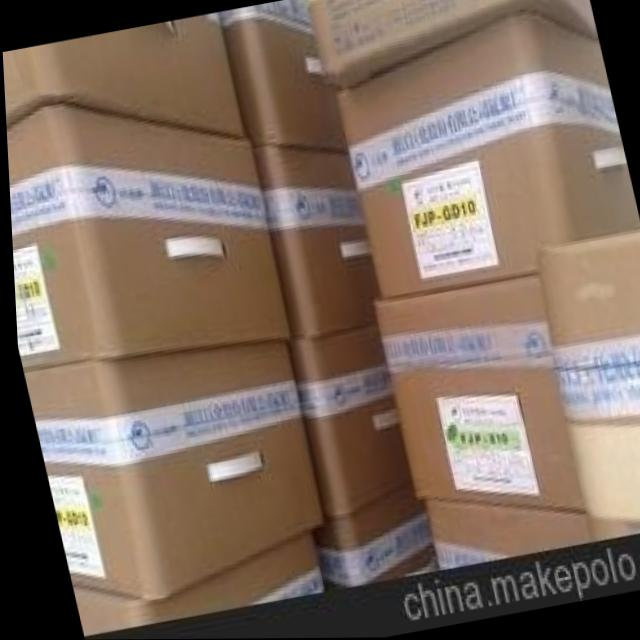box: (335, 11, 639, 301), (19, 340, 319, 602), (5, 104, 287, 370), (369, 272, 580, 514), (535, 229, 640, 542), (2, 12, 244, 138), (66, 532, 318, 636), (306, 0, 597, 87), (249, 144, 375, 338), (281, 326, 406, 520), (218, 0, 345, 152), (303, 480, 432, 592), (419, 502, 589, 571)
